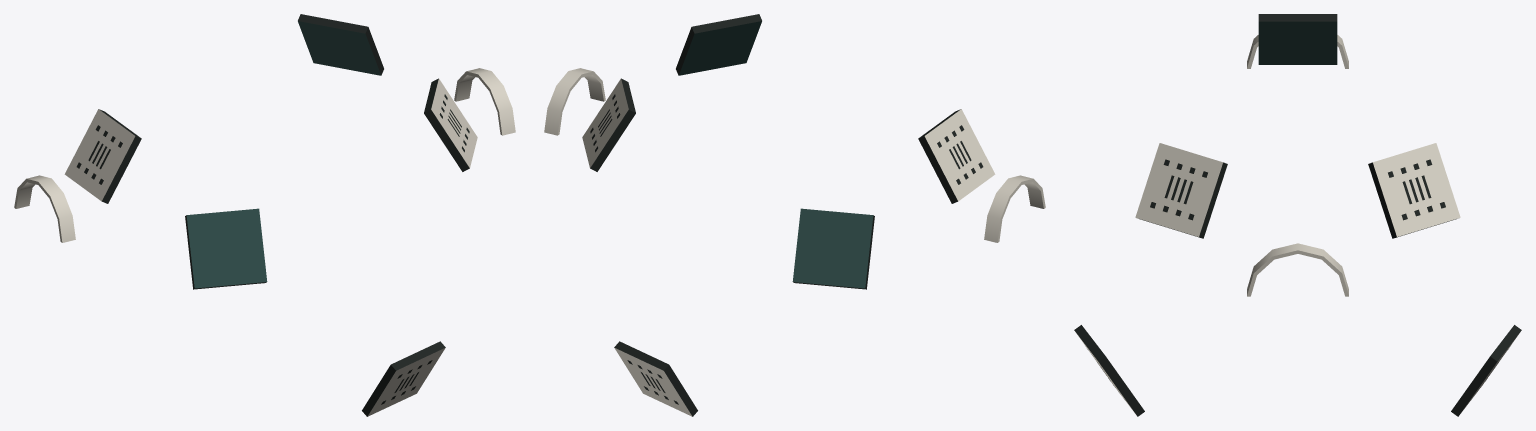
Rendered from shell_tally_c4.glb.
The picture shows the model from 3 angles, left to right: view 1: azimuth 30°, elevation 25°; view 2: azimuth 150°, elevation 25°; view 3: azimuth 270°, elevation 25°; orthographic projection. The views are drawn at different scales.
Parts seen in each view (by area): view 1: Pod, DrumHoods; view 2: Pod, DrumHoods; view 3: Pod, DrumHoods.
Part boxes in pixels (x1,y1,x2,y2): Pod: (64, 14, 477, 416); DrumHoods: (14, 68, 515, 242); Pod: (582, 14, 995, 416); DrumHoods: (544, 68, 1045, 242); Pod: (1074, 14, 1521, 416); DrumHoods: (1247, 35, 1348, 296).
Bounding box in the file's own units: 2.12 × 1.21 × 1.71.
